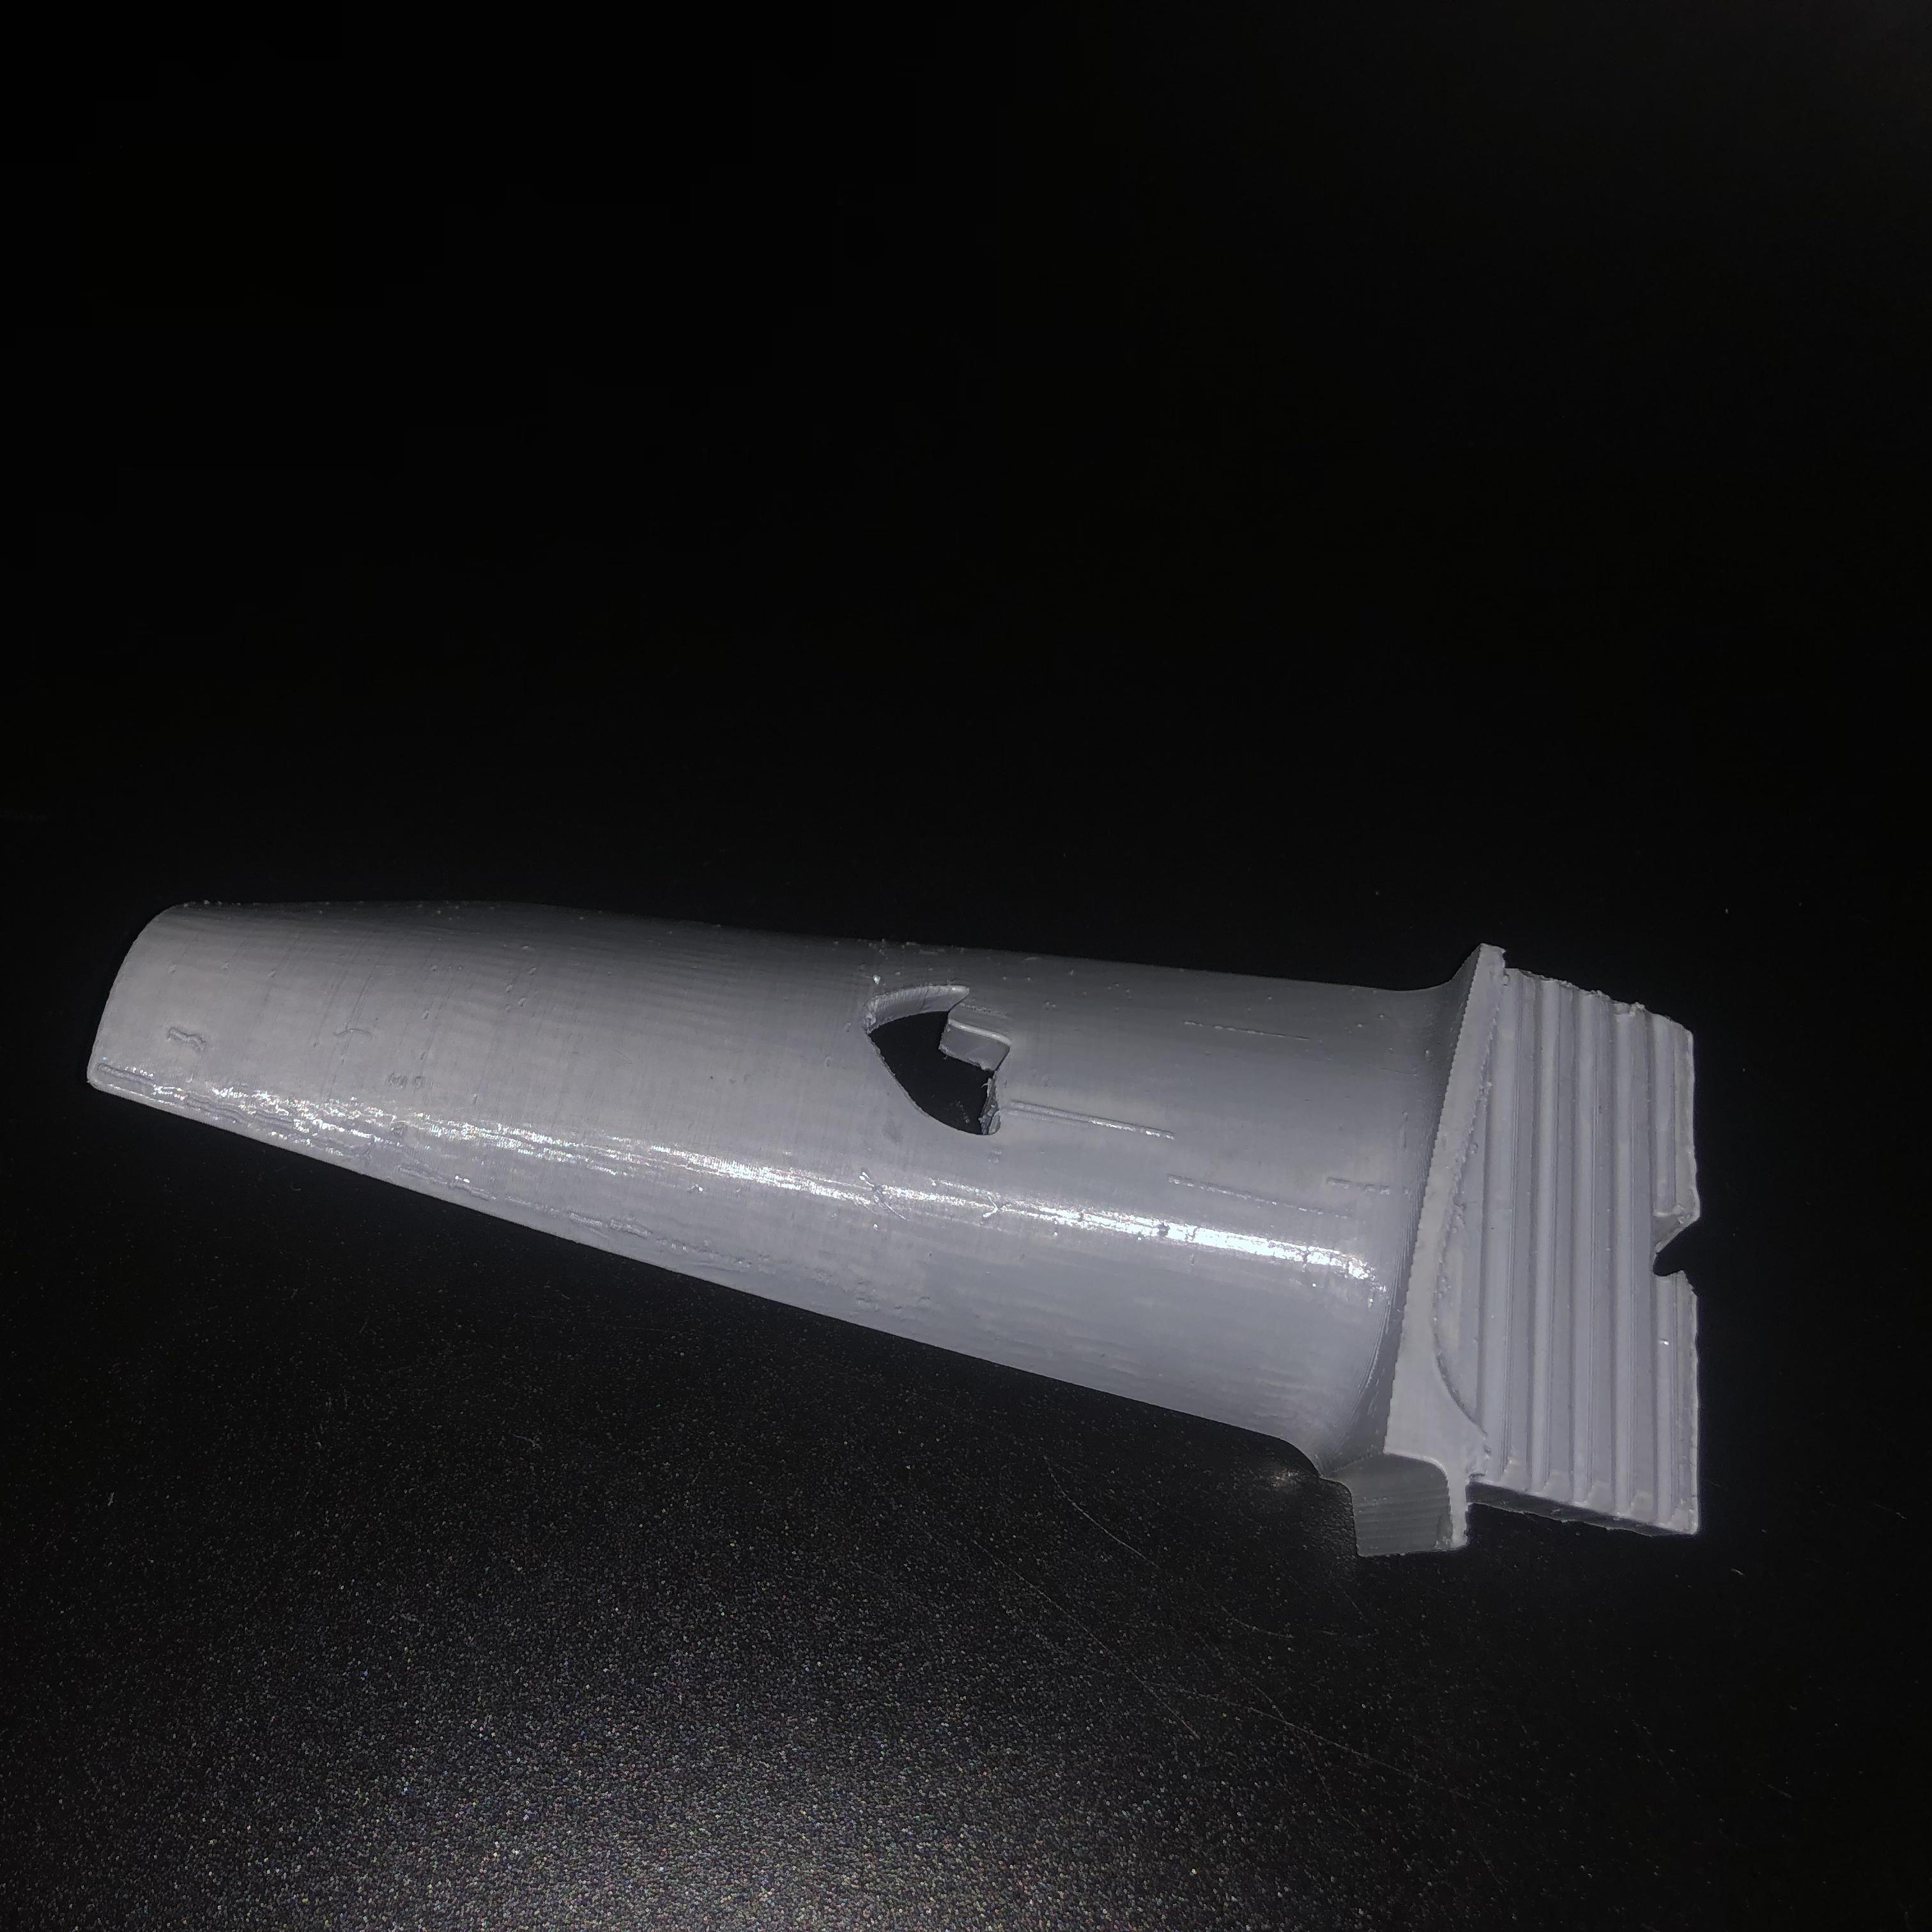breakdown: (860, 982, 1023, 1136)
